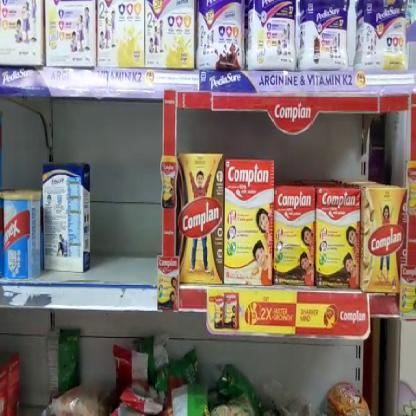Complan Kesar Badam: (226, 161, 274, 284), (362, 186, 404, 289)
Complan Royal Chocolate: (176, 154, 224, 288), (274, 187, 316, 289), (316, 188, 358, 289)
